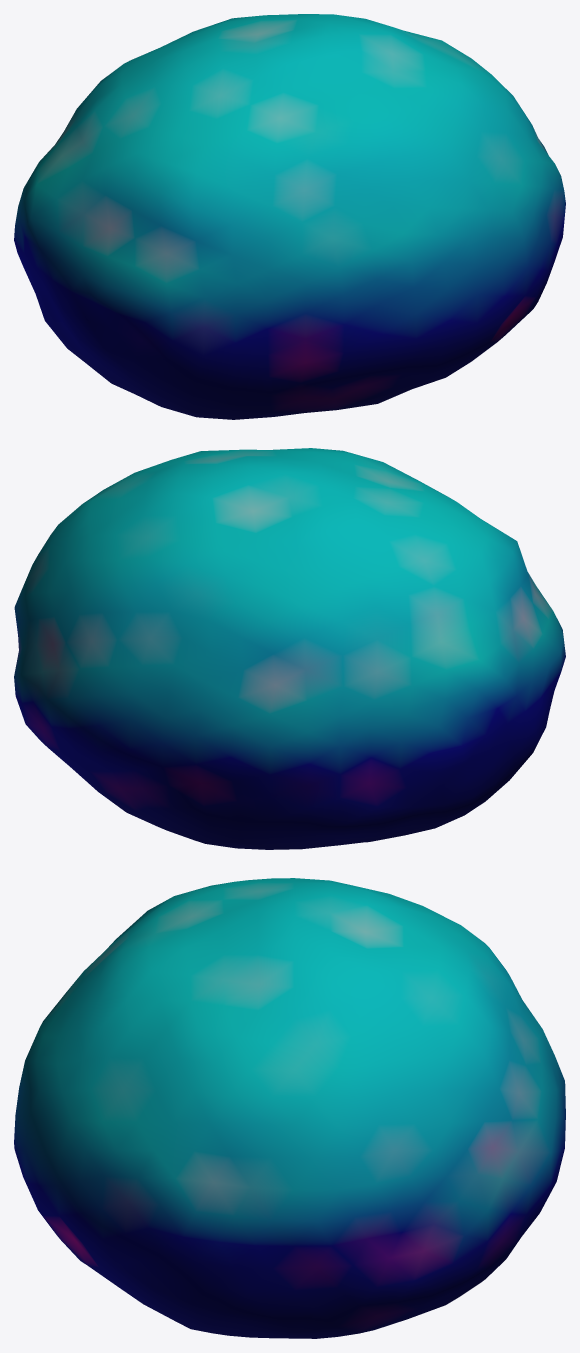
File: RockRounded_1_lod0.glb
3 views of the same model, one above another, from view 1: azimuth 30°, elevation 25°; view 2: azimuth 150°, elevation 25°; view 3: azimuth 270°, elevation 25° (orthographic). The views are drawn at different scales.
Visible parts, largest first — view 1: RockRounded_1_lod0; view 2: RockRounded_1_lod0; view 3: RockRounded_1_lod0.
Boxes of the visible parts, bbox=[...] form: RockRounded_1_lod0: bbox=[14, 14, 565, 419]; RockRounded_1_lod0: bbox=[14, 448, 565, 849]; RockRounded_1_lod0: bbox=[14, 878, 565, 1338].
Bounding box in the file's own units: 1.6 × 1.02 × 1.42.
